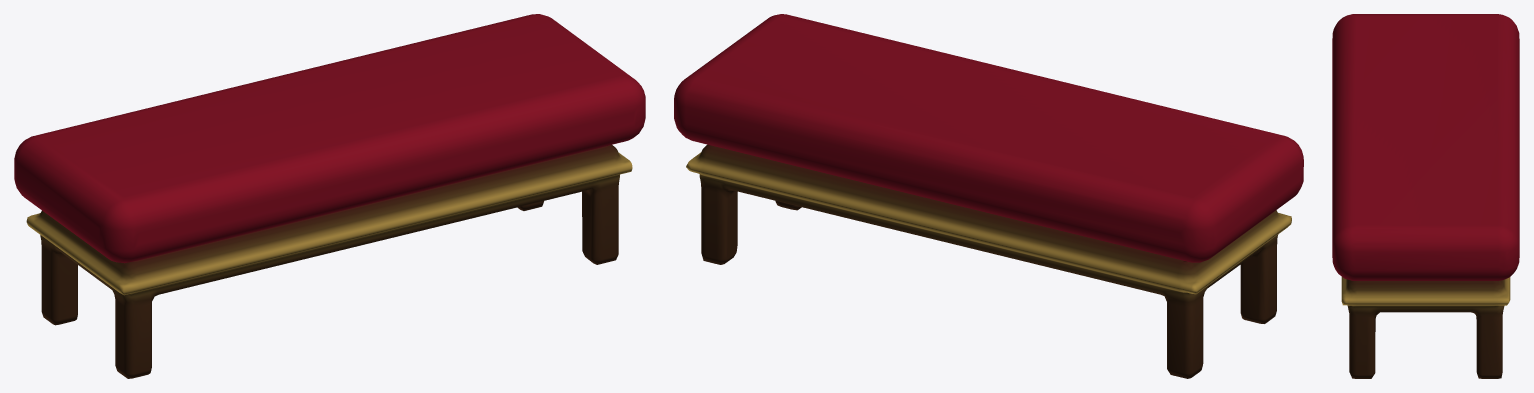
Rendered from lumiere-bench.glb.
The picture shows the model from 3 angles, left to right: view 1: azimuth 30°, elevation 25°; view 2: azimuth 150°, elevation 25°; view 3: azimuth 270°, elevation 25°; orthographic projection. The views are drawn at different scales.
Parts seen in each view (by area): view 1: lumiere-bench_LOD0; view 2: lumiere-bench_LOD0; view 3: lumiere-bench_LOD0.
Boxes of the visible parts, x1,y1,x2,y2 form: lumiere-bench_LOD0: [14, 14, 645, 378]; lumiere-bench_LOD0: [674, 14, 1303, 378]; lumiere-bench_LOD0: [1332, 14, 1519, 378].
Size of what is drawn, in the model's own units: 1.44 by 0.46 by 0.5.
